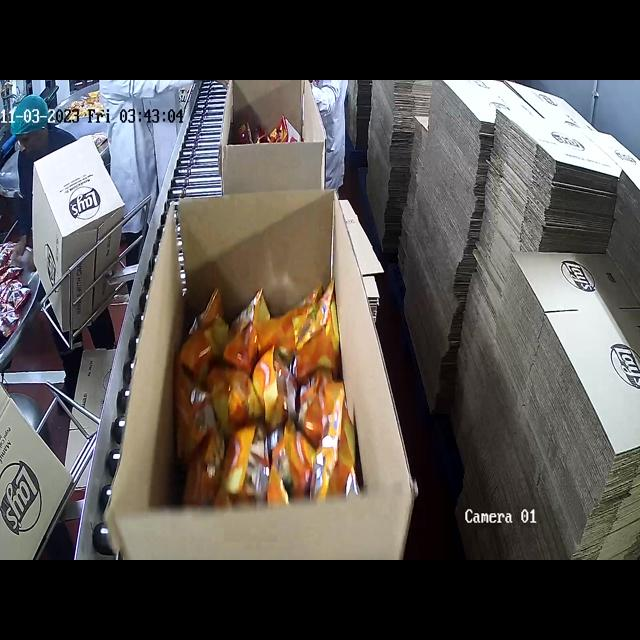cheese: (180, 285, 346, 507)
masala: (235, 119, 309, 147)
